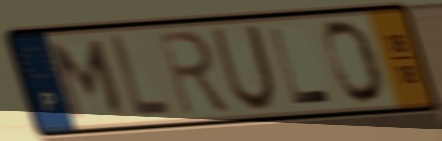L: (108, 32, 174, 119), (266, 25, 335, 107)
M: (48, 38, 129, 123)
O: (322, 17, 387, 107)
R: (154, 27, 234, 119)
U: (209, 22, 281, 114)
